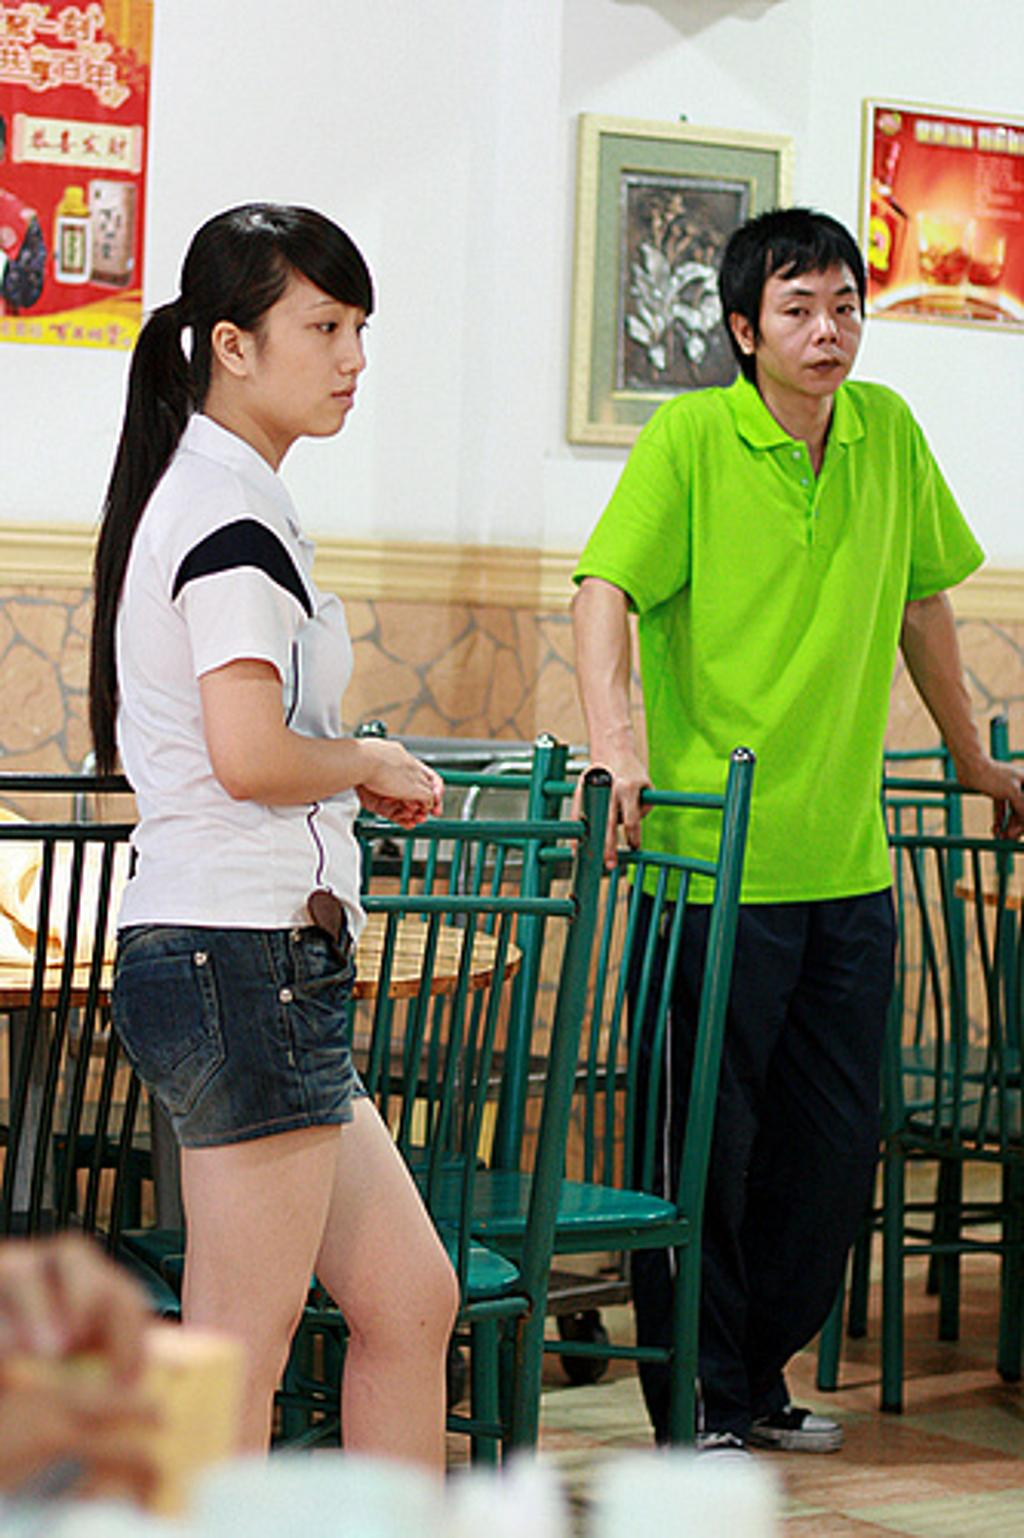face: (258, 234, 363, 438), (757, 243, 865, 399)
